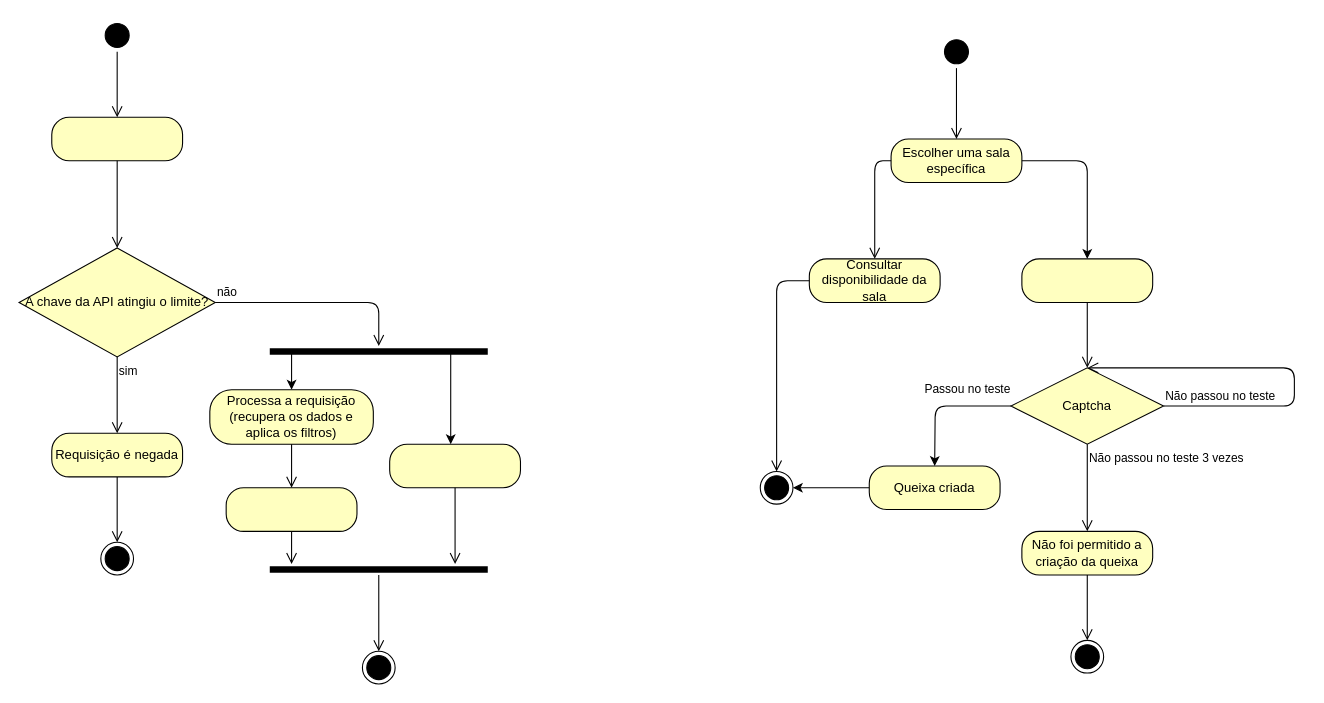
Image size: 1324x703. Some labels were removed from this diagram. Here are the shapes that lost their labels. From the top down, the box of each, then its label:
(51, 116, 183, 161): Requisição de listagem é enviada
(1021, 258, 1153, 302): Criar queixa em relação a sala
(389, 443, 520, 488): Atualiza os limites dessa chave
(225, 487, 357, 531): Retorna a requisição
